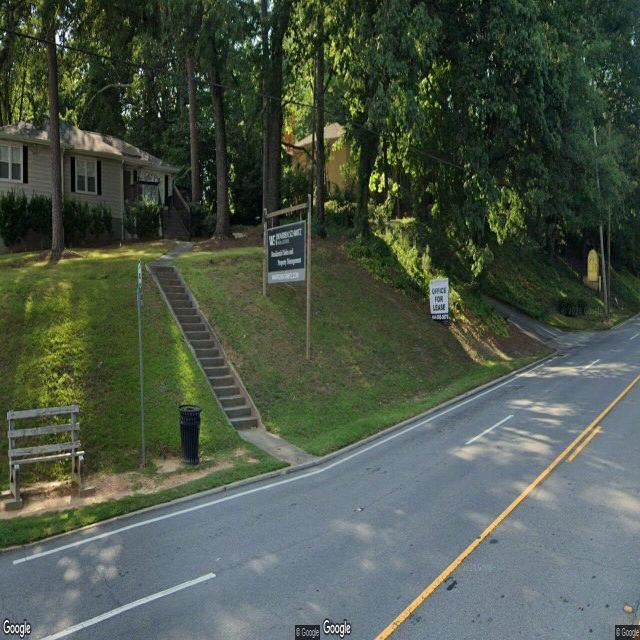seating: (7, 403, 85, 510)
trash_can: (177, 403, 203, 467)
